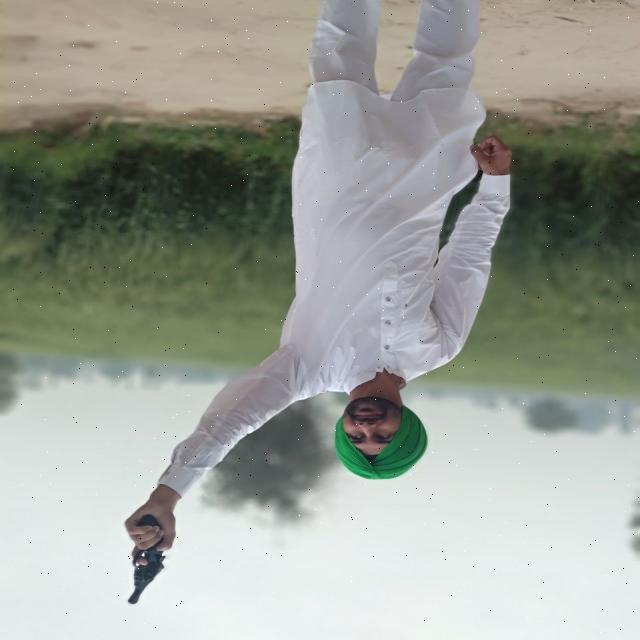gun: (103, 496, 190, 618)
